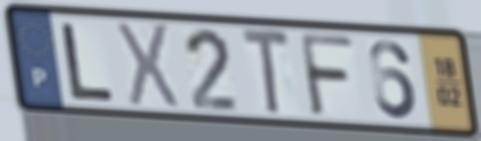2: (181, 25, 242, 114)
6: (368, 38, 420, 122)
F: (296, 30, 357, 120)
L: (60, 20, 118, 104)
T: (239, 24, 293, 119)
X: (114, 19, 182, 113)
